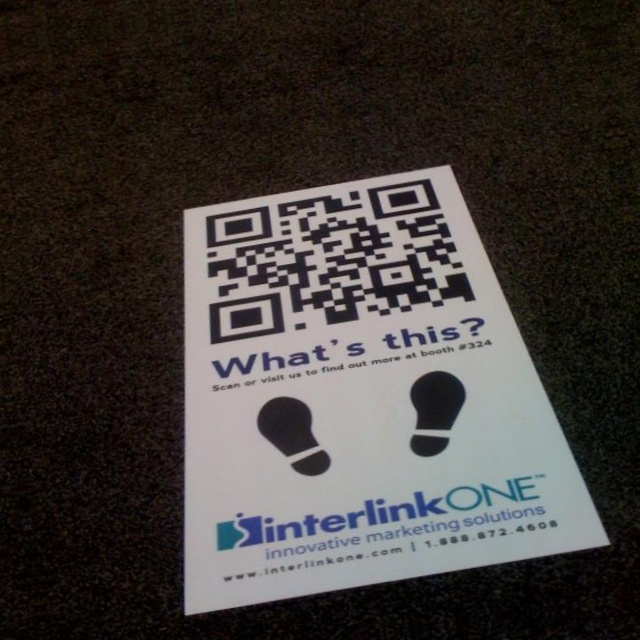qr-code: (192, 175, 476, 344)
